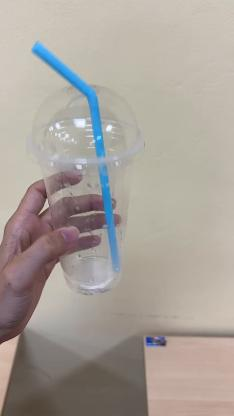Plastic Cup: (28, 80, 146, 294)
